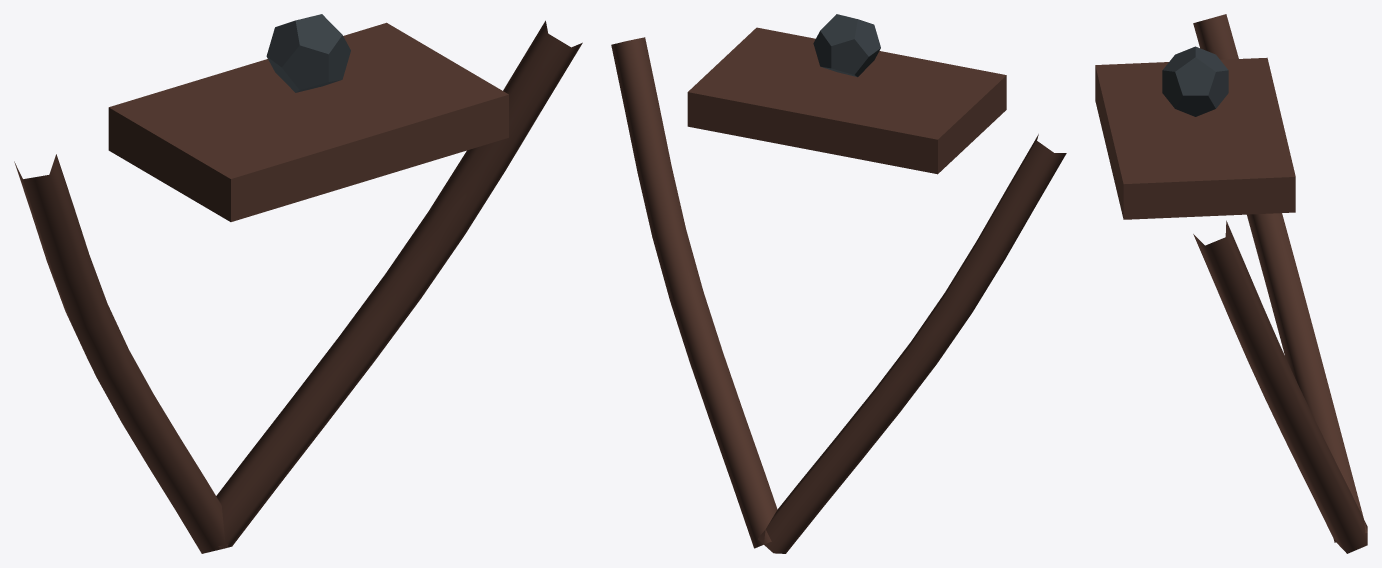
The model's file is sling.glb.
3 renders of one model, left to right at view 1: azimuth 30°, elevation 25°; view 2: azimuth 150°, elevation 25°; view 3: azimuth 270°, elevation 25°, orthographic. The views are drawn at different scales.
Visible parts, largest first — view 1: sling-pouch, sling-cord-right, sling-cord-left, sling-projectile; view 2: sling-pouch, sling-cord-right, sling-cord-left, sling-projectile; view 3: sling-pouch, sling-cord-right, sling-cord-left, sling-projectile.
Part boxes in pixels (x1,y1,x2,y2): sling-pouch: (108,22,508,221); sling-cord-right: (216,20,582,548); sling-cord-left: (14,154,228,553); sling-projectile: (266,14,350,92); sling-pouch: (687,27,1006,174); sling-cord-right: (611,37,777,548); sling-cord-left: (758,134,1066,553); sling-projectile: (813,14,880,77); sling-pouch: (1095,57,1295,219); sling-cord-right: (1193,220,1367,553); sling-cord-left: (1193,14,1367,542); sling-projectile: (1162,46,1228,116).
Bounding box in the file's own units: 0.3396 × 0.3479 × 0.1731.
